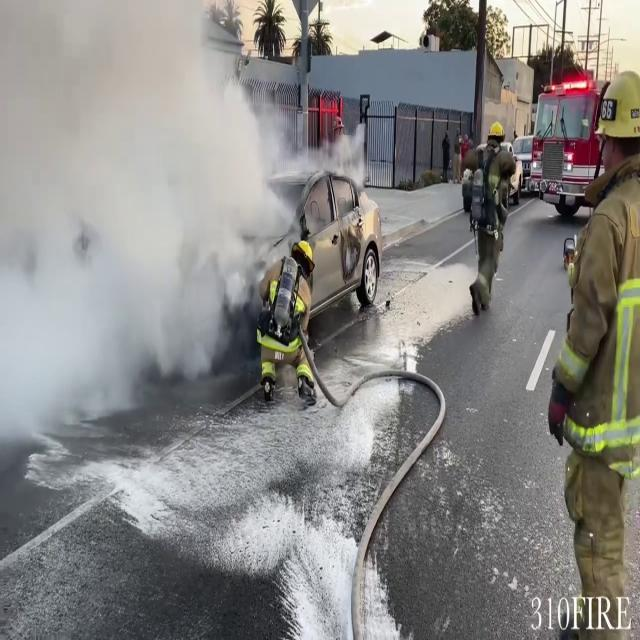Smoke: (0, 0, 298, 454)
